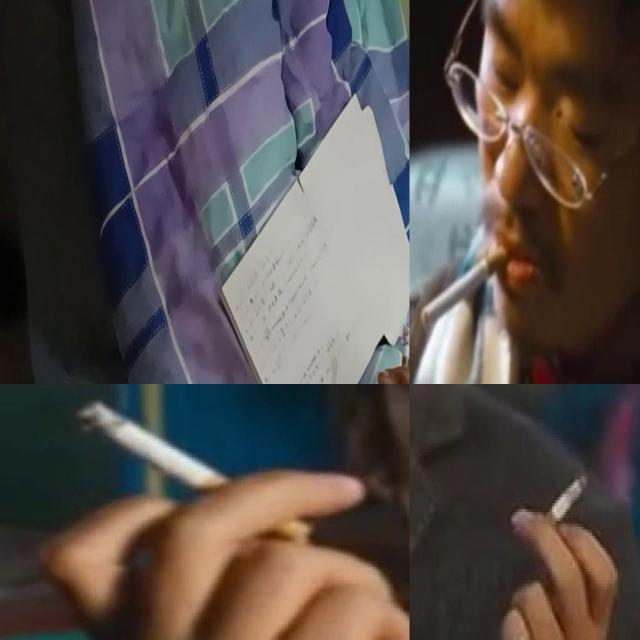smoking: (78, 399, 310, 544), (420, 238, 517, 329), (536, 474, 588, 538), (400, 325, 410, 383)
